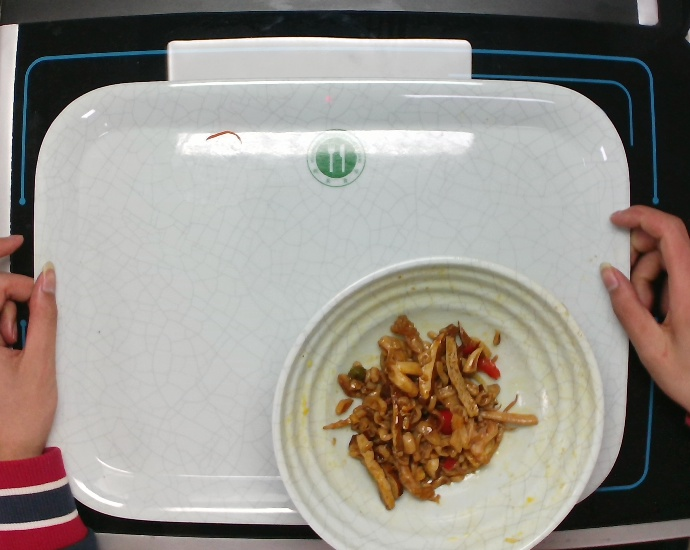JYsf-Da_Tang_Wan: (262, 252, 612, 550)
